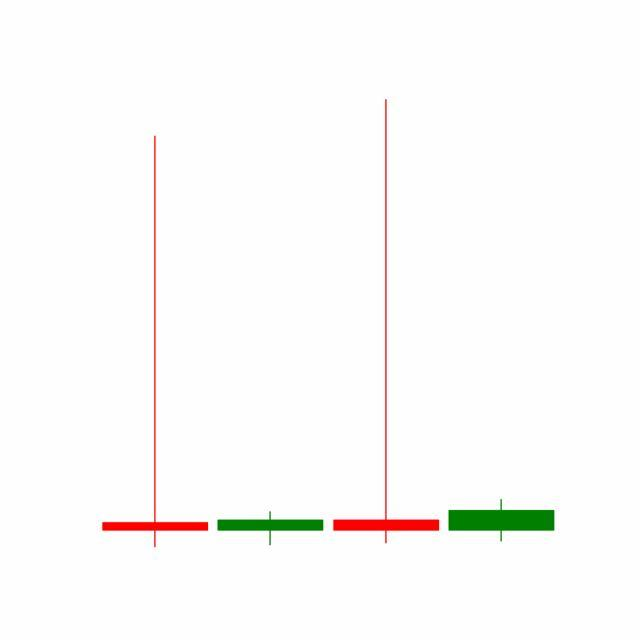Gravestone Doji: (329, 95, 445, 550)
